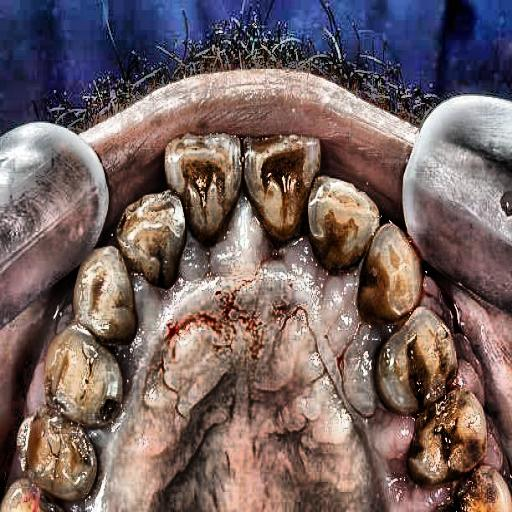Gingivitis: (132, 251, 358, 384), (419, 262, 510, 399), (216, 192, 286, 320)
